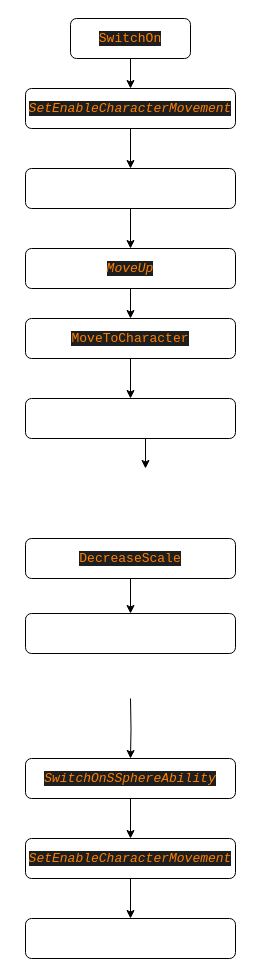
Some shapes in this 260 by 976 pixel diagram are drawn without their labels. Each missing label, with the centre of its shape:
DecreaseScaleTimelineFinished: the point at 130,633
Destroy: the point at 130,938
IncreaseEmissive: the point at 130,188
IncreaseScaleAndEmissive: the point at 130,418
